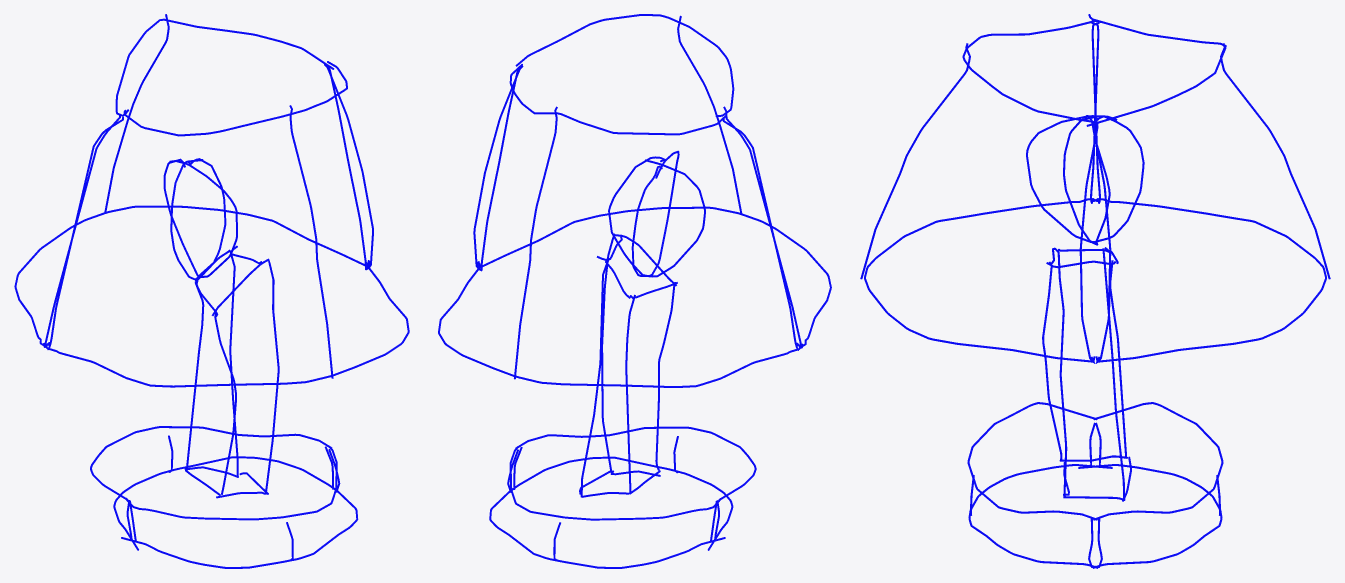
Rendered from cassie_p9_lamp.glb.
3 views of the same model, side by side, from view 1: azimuth 30°, elevation 25°; view 2: azimuth 150°, elevation 25°; view 3: azimuth 270°, elevation 25° (orthographic). The views are drawn at different scales.
Visible parts, largest first — view 1: cassie_p9_lamp; view 2: cassie_p9_lamp; view 3: cassie_p9_lamp.
Part boxes in pixels (x1,y1,x2,y2): cassie_p9_lamp: (14,14,409,568); cassie_p9_lamp: (438,14,831,568); cassie_p9_lamp: (860,14,1330,568).
Size of the model in its own units: 0.744 by 1 by 0.8996.
